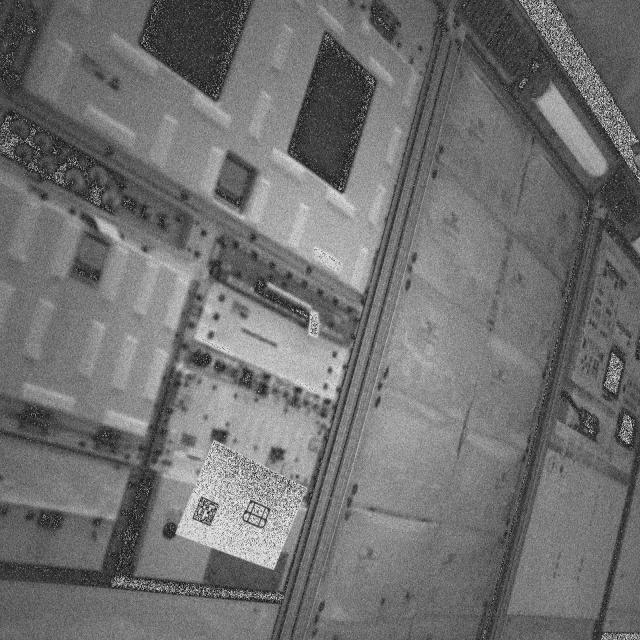letter: (241, 500, 279, 531)
